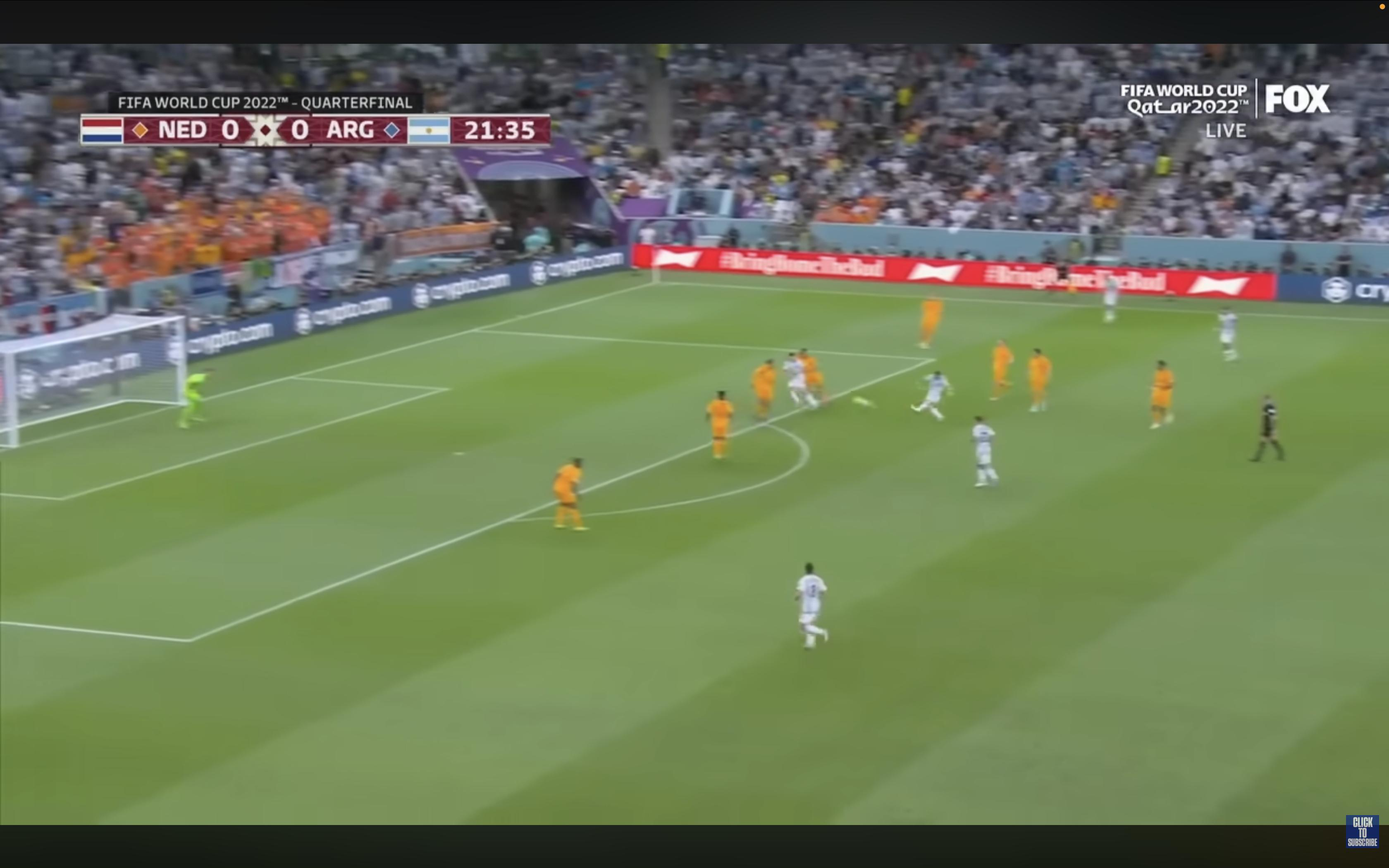ball: (852, 396, 875, 408)
goalkeeper: (179, 371, 210, 429)
player: (795, 563, 829, 649), (553, 458, 587, 531), (911, 371, 953, 420), (783, 352, 819, 409), (971, 416, 999, 487), (178, 369, 210, 429), (706, 391, 734, 459), (1150, 361, 1174, 429), (797, 348, 826, 403), (752, 359, 777, 421), (1028, 348, 1052, 412), (990, 339, 1014, 401), (920, 298, 943, 349), (1217, 308, 1238, 361), (1103, 275, 1120, 324)
referee: (1251, 395, 1284, 462)
